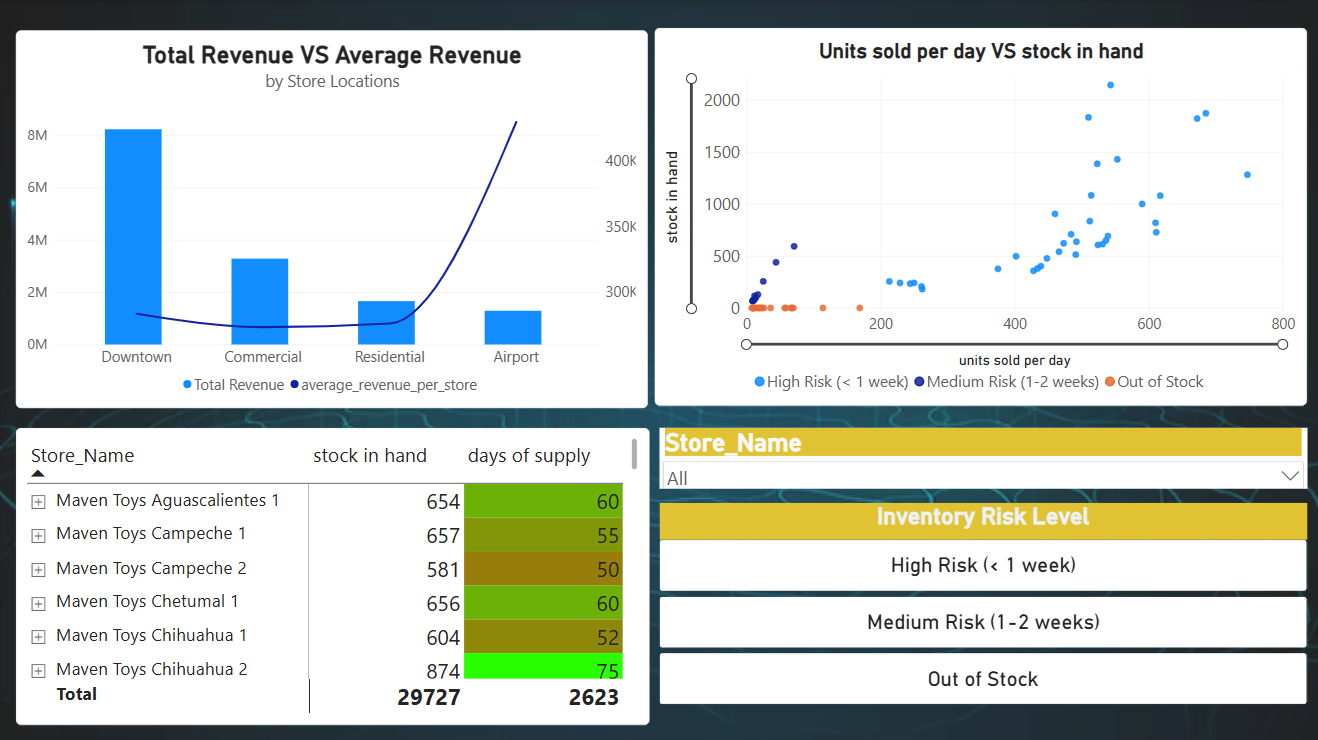

The dashboard page shown, as its layout file describes it:
{"tool":"powerbi","page":{"name":"Page 2","canvas":[1920,1080],"ordinal":1},"visuals":[{"type":"lineClusteredColumnComboChart","title":"Total Revenue VS Average Revenue","fields":{"Category":["stores.Store_Location"],"Y":["table_measures.Total Revenue"],"Y2":["table_measures.average_revenue_per_store"]},"box":[27.5,45,915,547.5],"z":0},{"type":"scatterChart","title":"Units sold per day VS stock in hand","fields":{"Category":["inventory_stock_out_risk.Product_Name"],"Series":["inventory_stock_out_risk.Risk_Level"],"X":["Sum(inventory_stock_out_risk.Avg_Daily_Sales)"],"Y":["Sum(inventory_stock_out_risk.Stock_On_Hand)"]},"box":[952.5,42.5,945,547.5],"z":1001},{"type":"pivotTable","fields":{"Rows":["inventory_stock_out_risk.Store_Name","inventory_stock_out_risk.Product_Name"],"Values":["Sum(inventory_stock_out_risk.Stock_On_Hand)","Sum(inventory_stock_out_risk.Days_Of_Supply)"]},"box":[27.5,620,917.5,430],"z":1002},{"type":"slicer","fields":{"Values":["inventory_stock_out_risk.Store_Name"]},"box":[960,620,937.5,87.5],"z":1003},{"type":"advancedSlicerVisual","title":"Inventory Risk Level","fields":{"Values":["inventory_stock_out_risk.Risk_Level"]},"box":[960,730,937.5,292.5],"z":1004}]}

Visuals, with their boxes in screenshot pixels (x1, y1, x2, y2), scaled from the page's 1920x1080 canvas onto the 1318x740 screenshot:
"Total Revenue VS Average Revenue" lineClusteredColumnComboChart: <region>19, 31, 647, 406</region>
"Units sold per day VS stock in hand" scatterChart: <region>654, 29, 1303, 404</region>
pivotTable - inventory_stock_out_risk.Store_Name x inventory_stock_out_risk.Product_Name: <region>19, 425, 649, 719</region>
slicer - inventory_stock_out_risk.Store_Name: <region>659, 425, 1303, 485</region>
"Inventory Risk Level" advancedSlicerVisual: <region>659, 500, 1303, 701</region>
